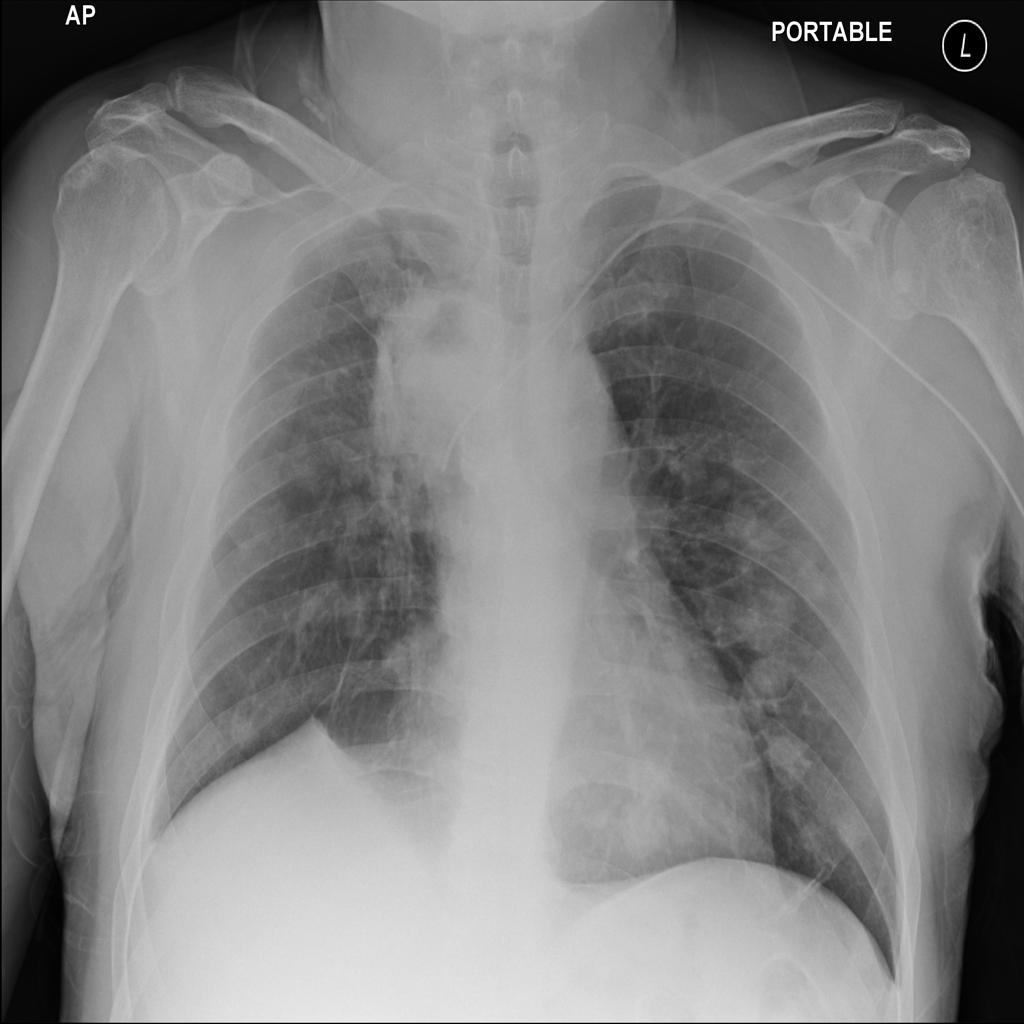nodule: (729, 572, 802, 653), (608, 785, 681, 866), (754, 721, 821, 800), (715, 487, 786, 560), (741, 645, 804, 714), (217, 703, 266, 758)
